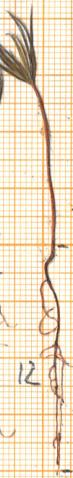flower: (0, 0, 42, 89)
root: (36, 246, 71, 469)
stem: (32, 86, 60, 245)
